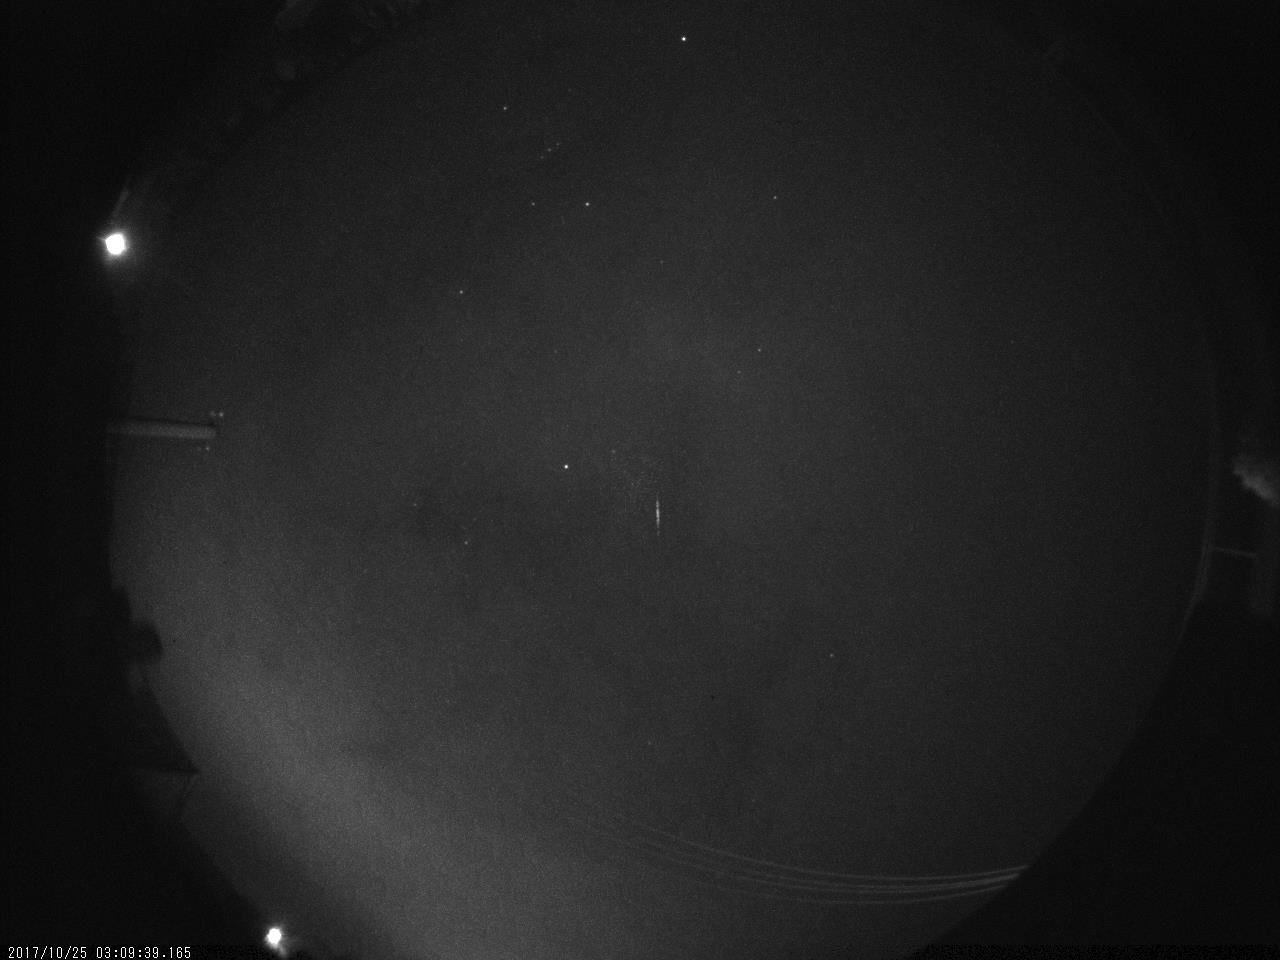meteor: (648, 491, 669, 536)
